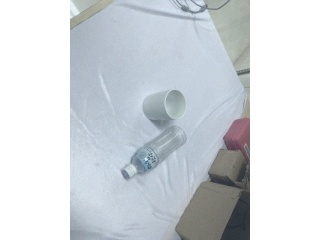bottle: (120, 125, 187, 181)
box: (176, 181, 249, 240)
cup: (142, 89, 186, 121)
